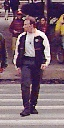person: (15, 18, 47, 112)
